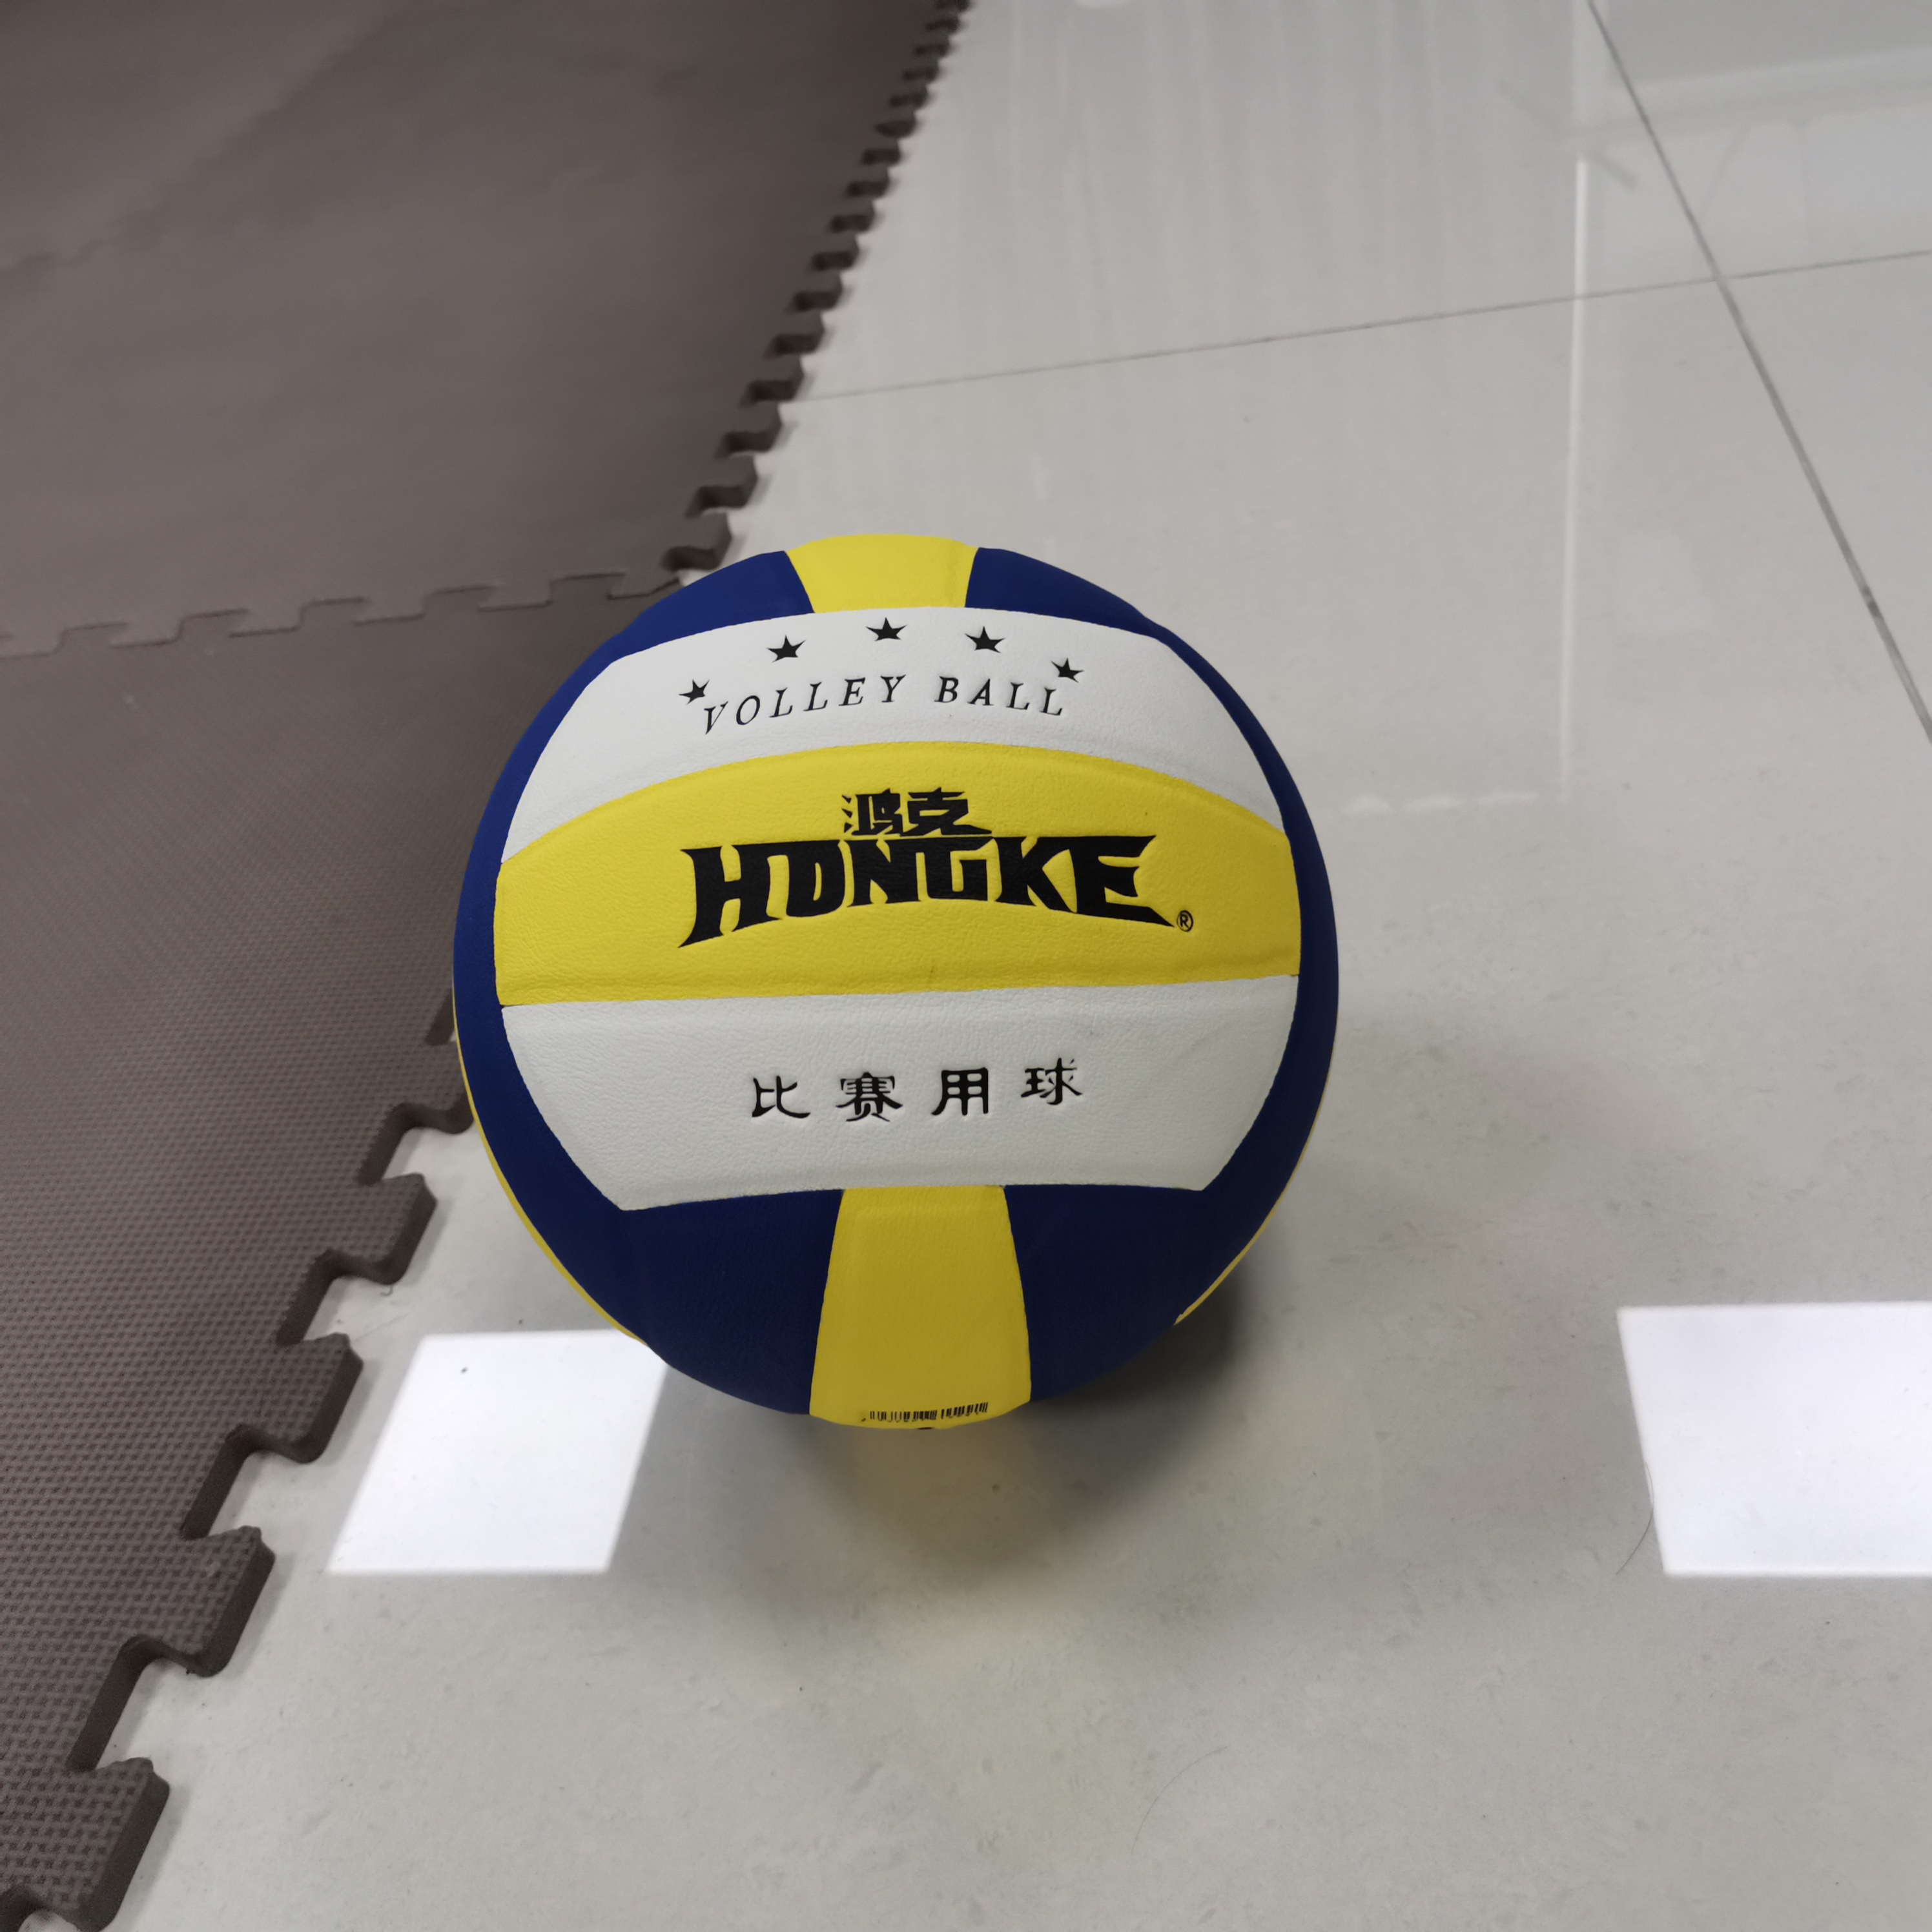volleyball: (458, 525, 1346, 1431)
